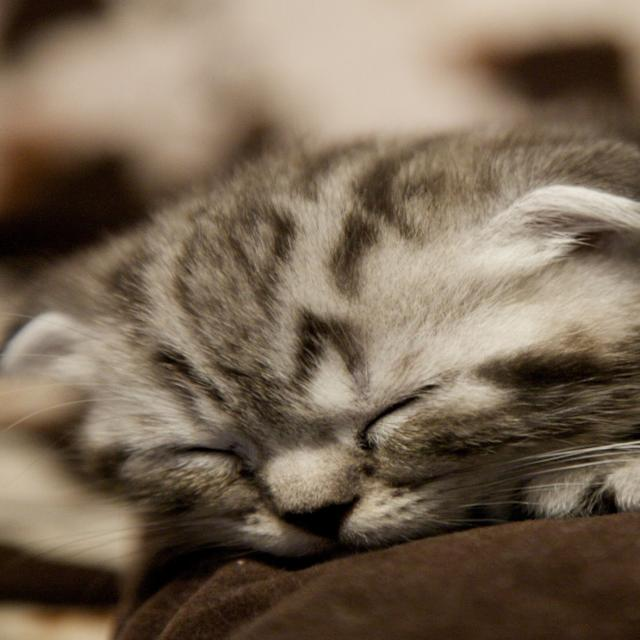Scottish Fold: (0, 123, 640, 563)
